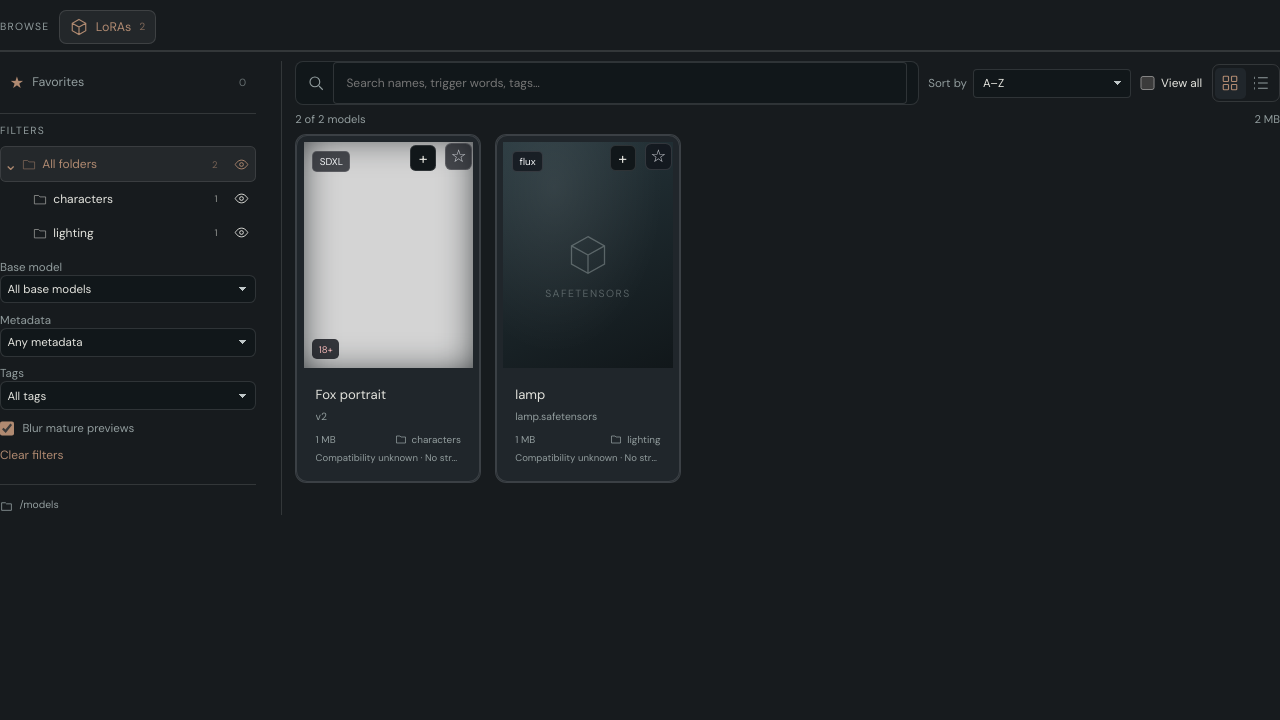
it: stores notes and multiword tags locally and searches them after a remount
Earlier steps of the test are not shown.
Step 1. Type "strength 0.7" into the field named "Search installed models" → (620, 83), box [333,62,906,104]
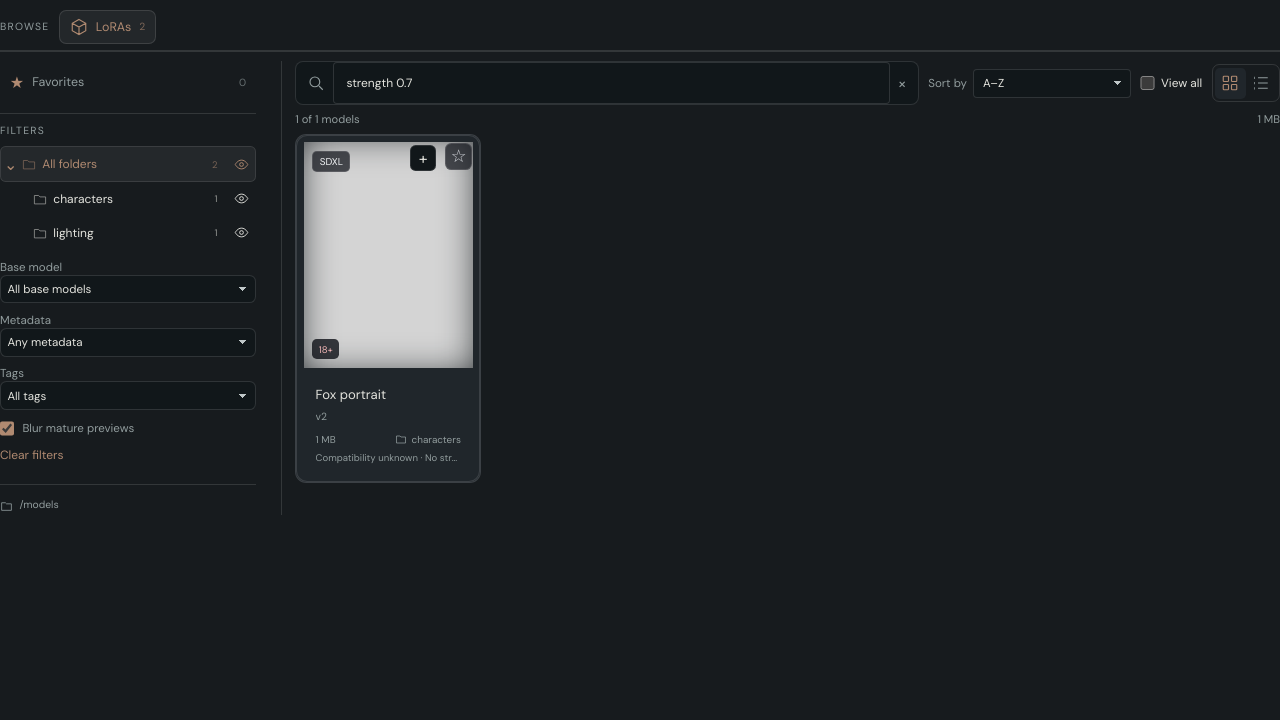
Step 2. Click the button with aria-label "characters/fox.safetensors" → (388, 308), box [296,134,480,482]
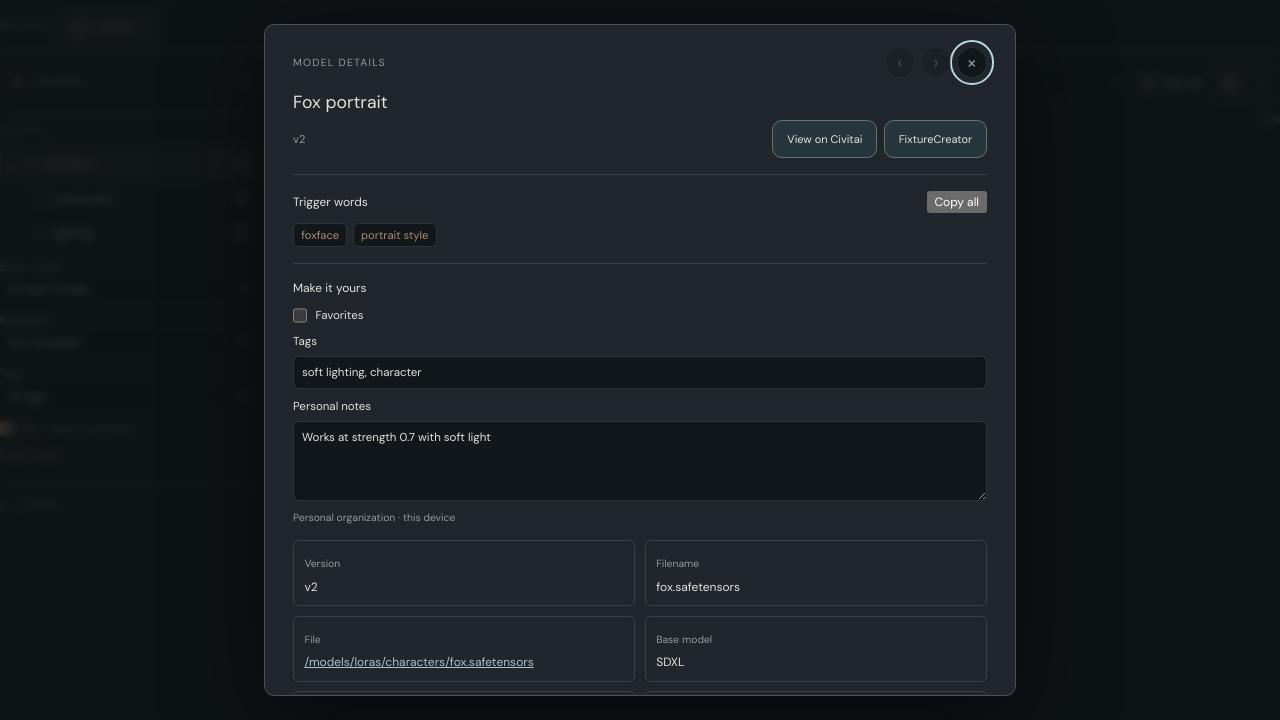
Expected: the text box labelled "Personal notes" holds "Works at strength 0.7 with soft light", [293,420,987,500]
Expected: the field named "Edit model tags" holds "soft lighting, character", [293,356,987,389]
